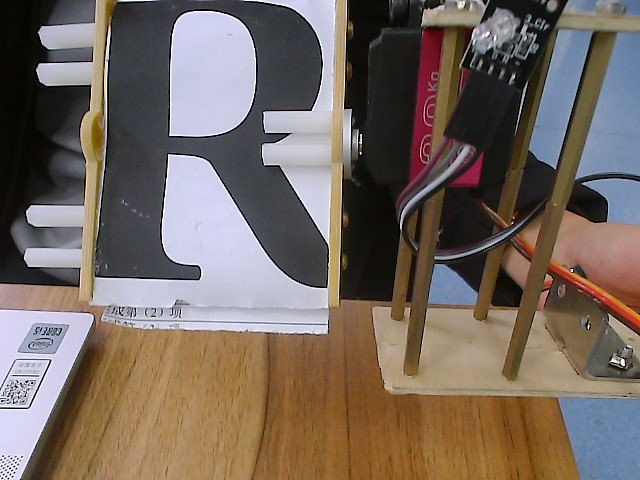R: (11, 1, 384, 429)
